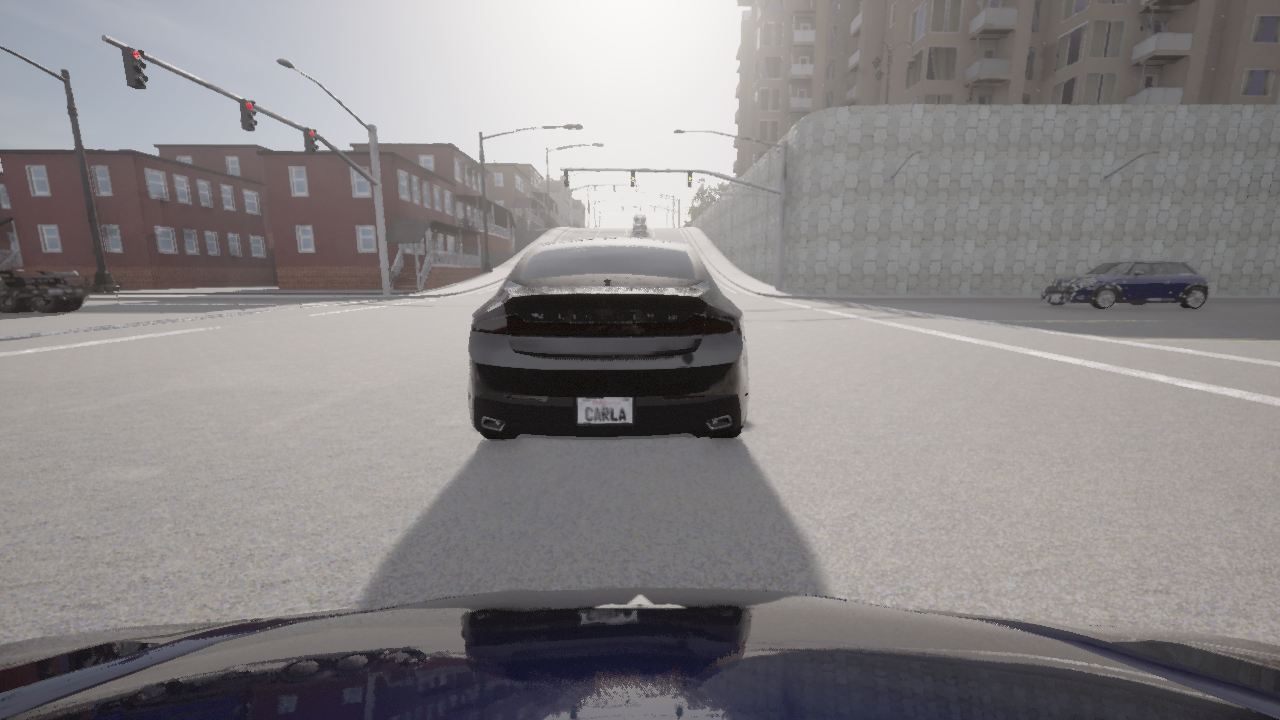cyclist: (0, 588, 1279, 719), (468, 236, 748, 440), (1040, 259, 1209, 309), (632, 221, 647, 231), (631, 229, 648, 237), (633, 214, 646, 222)
